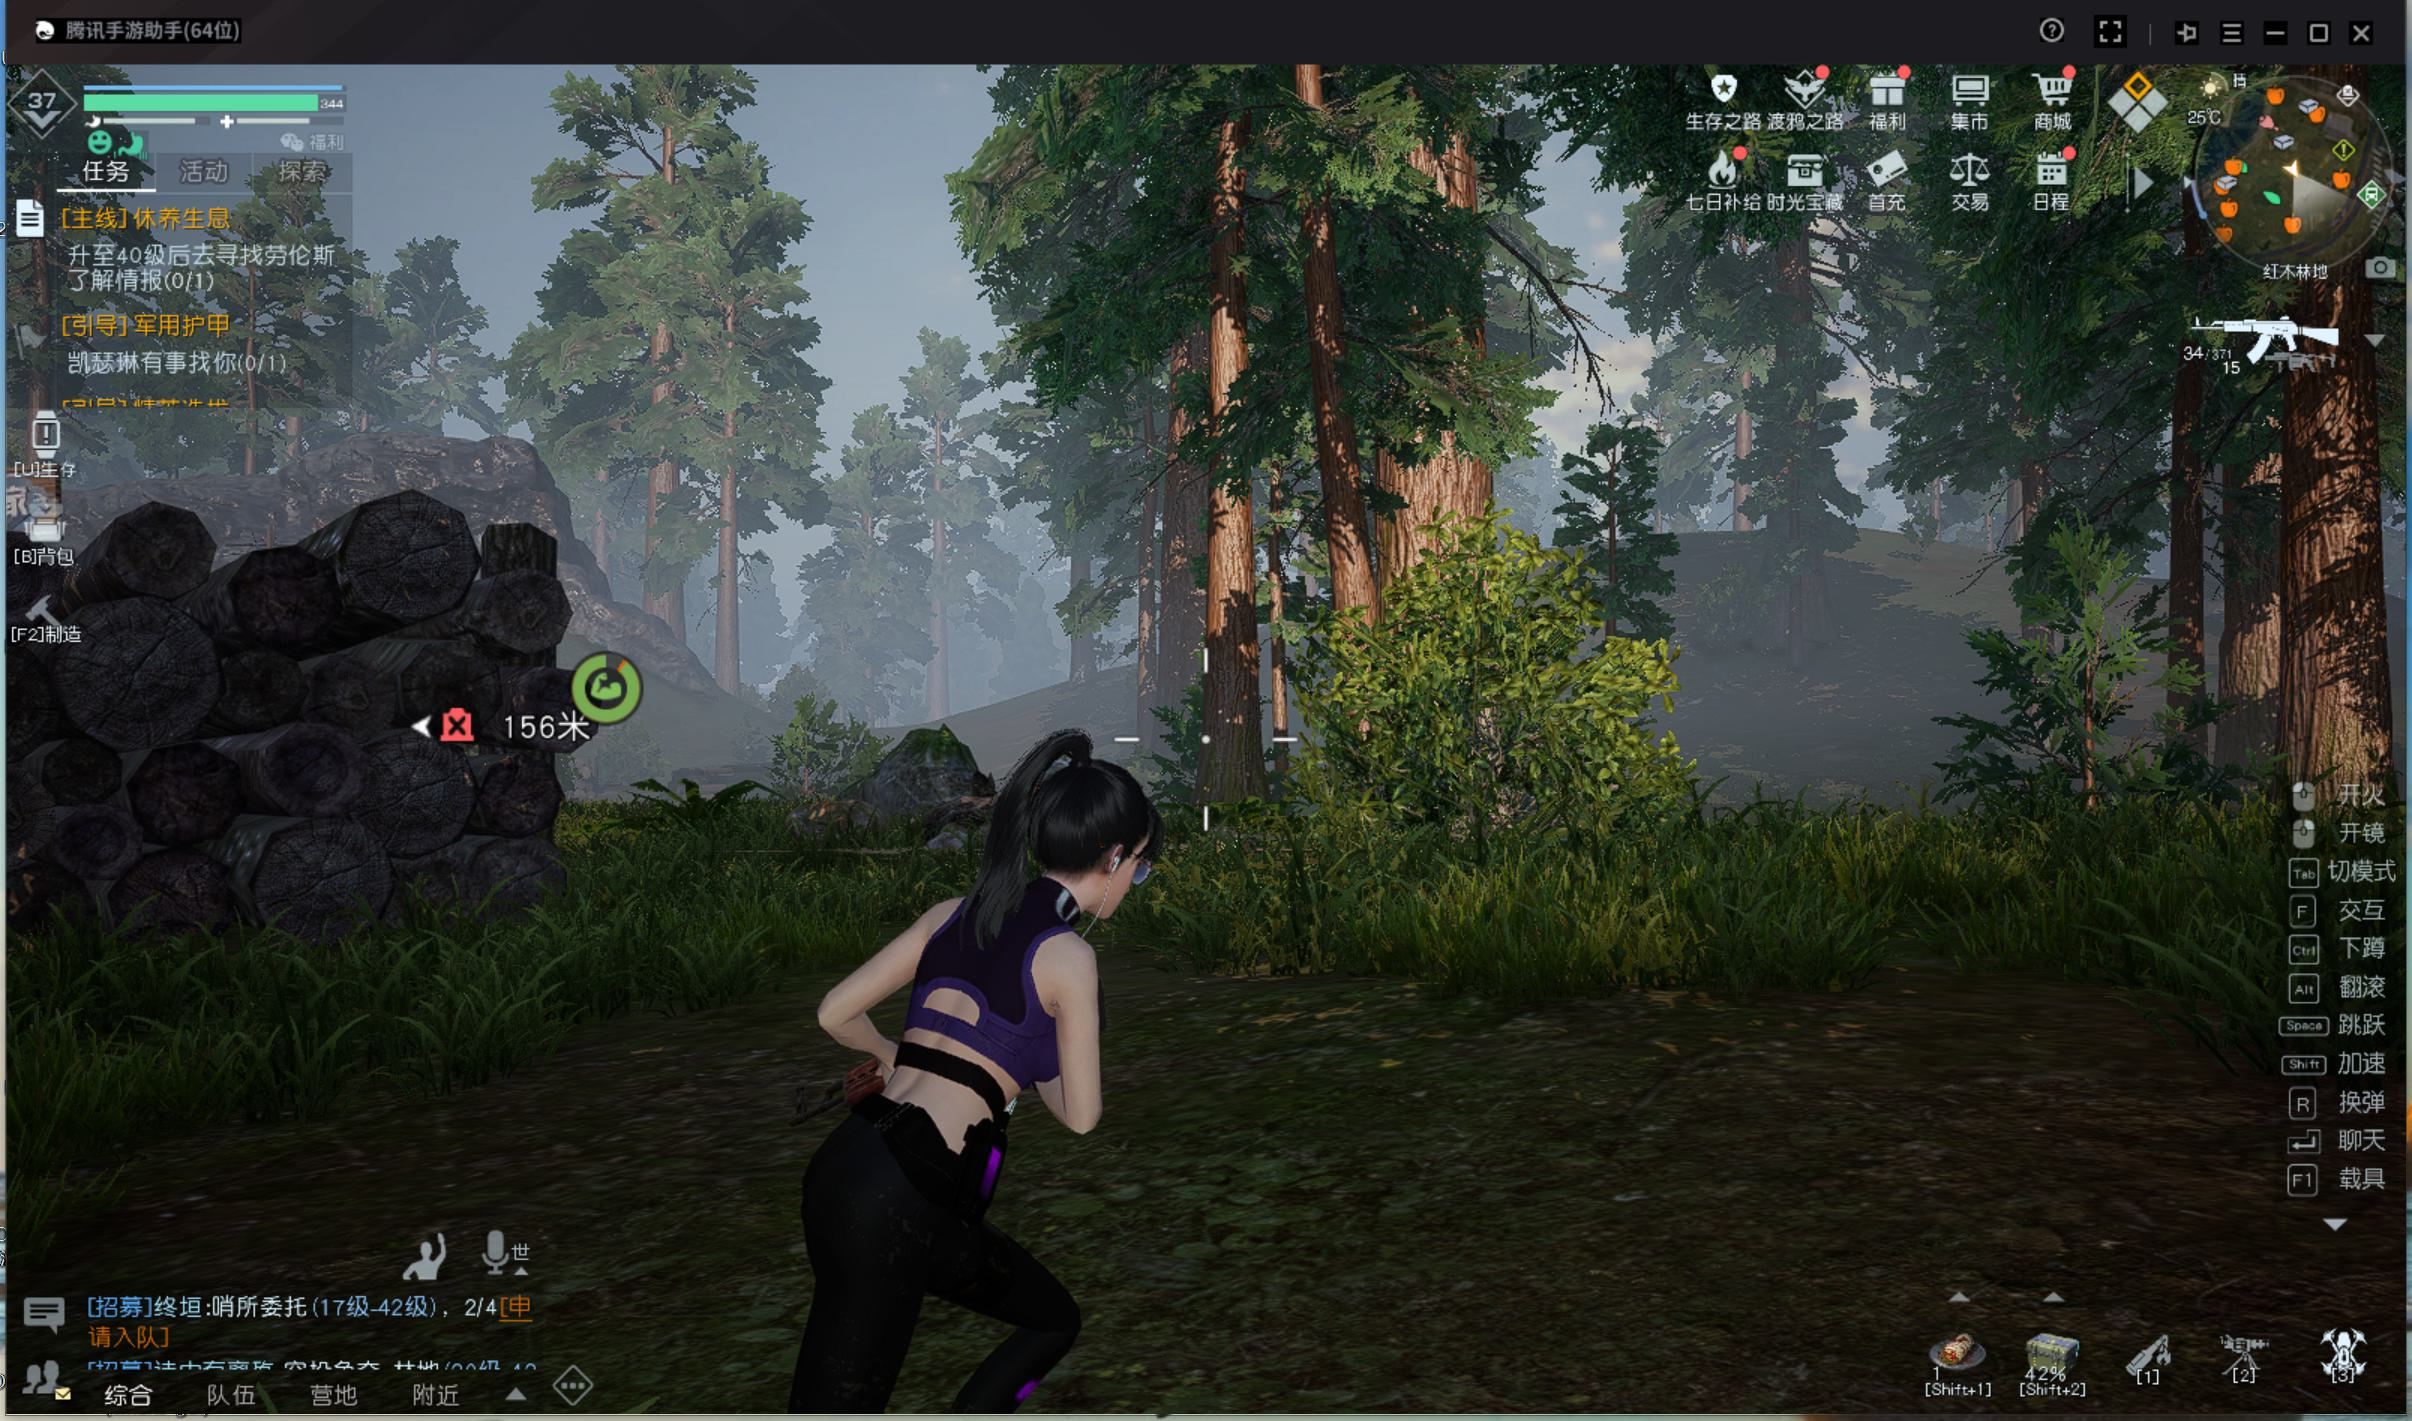tree: (2268, 394, 2387, 898), (1294, 294, 1377, 871), (1208, 311, 1260, 824), (707, 457, 741, 692)
